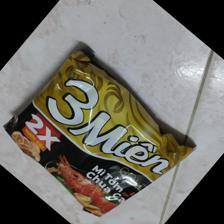3mien: (2, 42, 197, 216)
